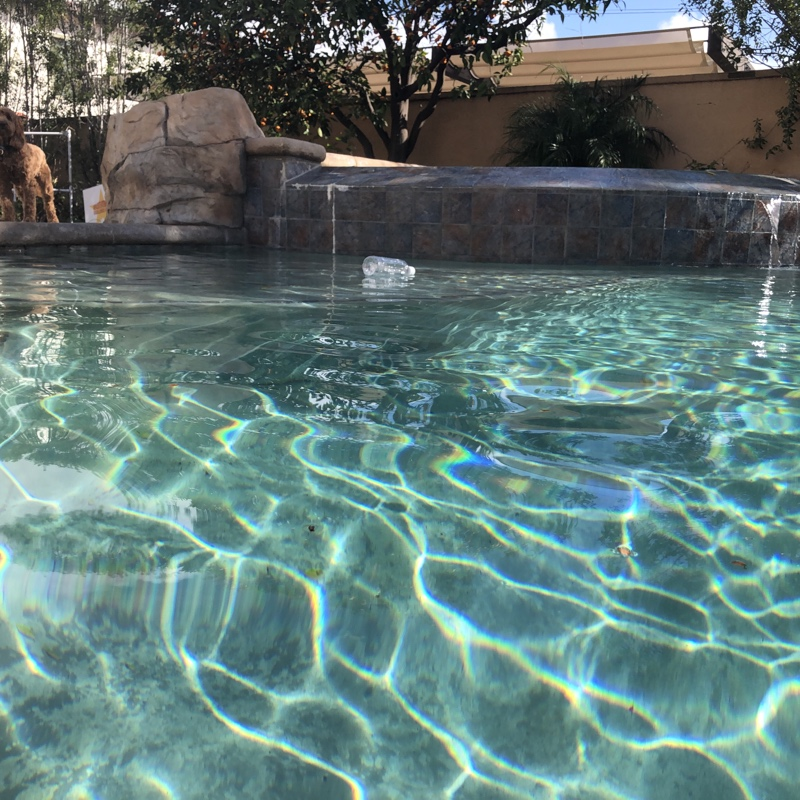Plastic Bottle: (358, 251, 416, 287)
